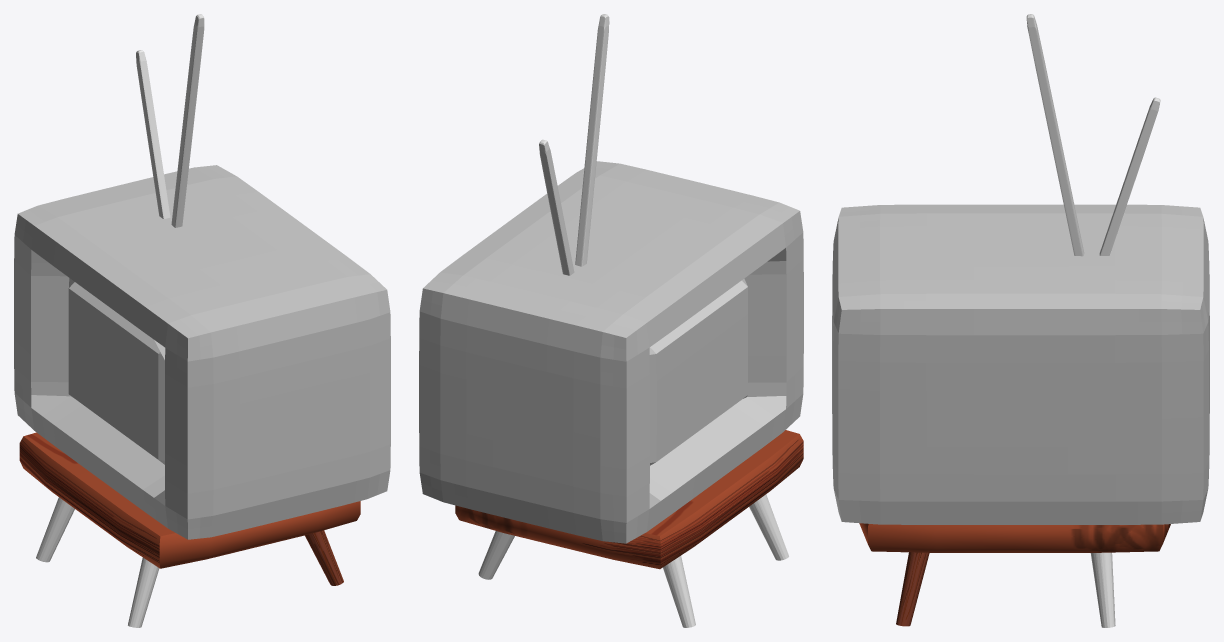
File: tvbro 1.fbx
The picture shows the model from 3 angles, left to right: view 1: azimuth 30°, elevation 25°; view 2: azimuth 150°, elevation 25°; view 3: azimuth 270°, elevation 25°; orthographic projection. The views are drawn at different scales.
Visible parts, largest first — view 1: Cube.001, Cube.022, Cube.003, Cube.002, Cylinder, Cylinder.004, Cylinder.002; view 2: Cube.001, Cube.022, Cube.003, Cube.002, Cylinder.004, Cylinder, Cylinder.001; view 3: Cube.001, Cube.022, Cube.003, Cube.002, Cylinder.001, Cylinder.002.
Boxes of the visible parts, x1,y1,x2,y2 form: Cube.001: (14,165,390,539); Cube.022: (19,432,360,568); Cube.003: (171,14,204,227); Cube.002: (136,50,170,218); Cylinder: (128,557,159,627); Cylinder.004: (36,497,74,562); Cylinder.002: (305,530,343,585); Cube.001: (419,161,803,543); Cube.022: (455,430,803,569); Cube.003: (575,14,609,266); Cube.002: (539,139,574,275); Cylinder.004: (663,556,695,627); Cylinder: (749,494,788,560); Cylinder.001: (478,531,514,579); Cube.001: (832,204,1209,524); Cube.022: (859,523,1170,552); Cube.003: (1026,14,1084,256); Cube.002: (1099,97,1160,255); Cylinder.001: (1090,552,1115,627); Cylinder.002: (896,552,929,626).
Size of the model in its own units: 503 by 1144 by 684.
